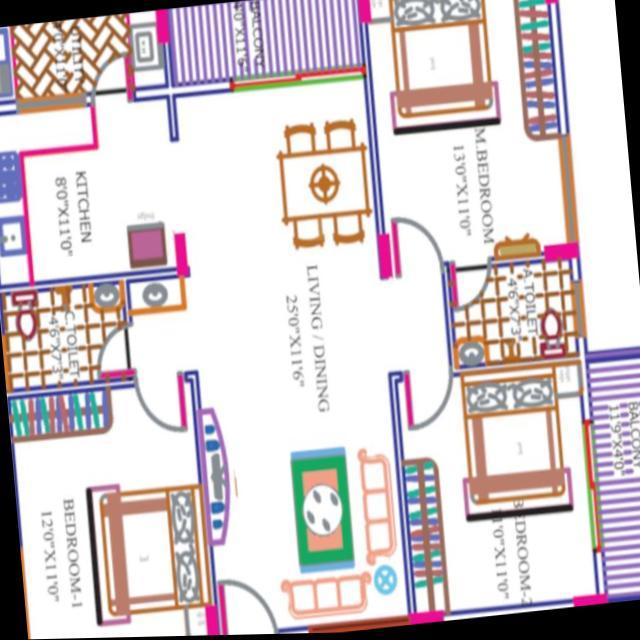Balcony-Sitout: (163, 0, 368, 91), (586, 355, 640, 601)
Bedroom: (5, 375, 216, 640), (394, 359, 603, 625)
Bedroom with Toilet: (364, 0, 583, 372)
Dining: (265, 116, 373, 253)
Enterance-Foyer: (216, 567, 277, 636)
Kitchen: (0, 93, 185, 289)
Living: (197, 352, 412, 636)
Toilet: (449, 256, 581, 372), (0, 279, 130, 394)
Utility: (0, 10, 169, 109)
